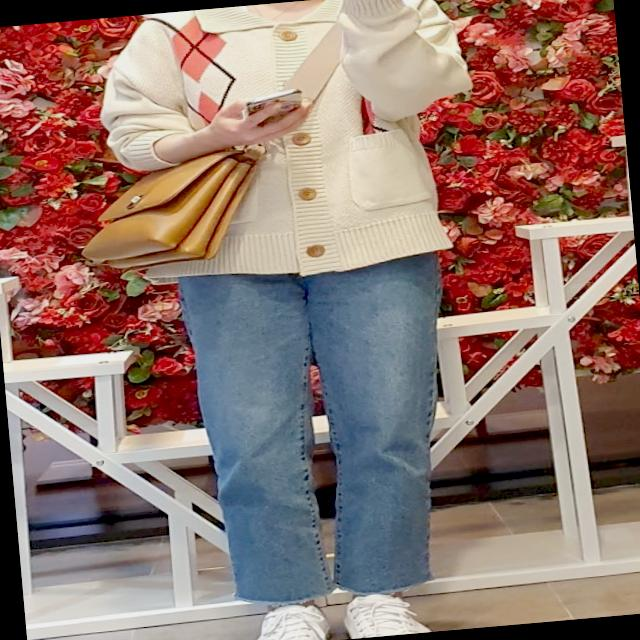cardigan: (88, 0, 483, 295)
denimpants: (172, 244, 466, 614)
